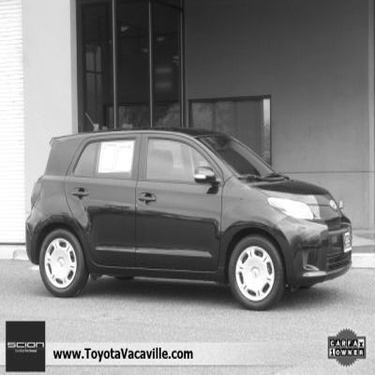car: (17, 115, 359, 327)
